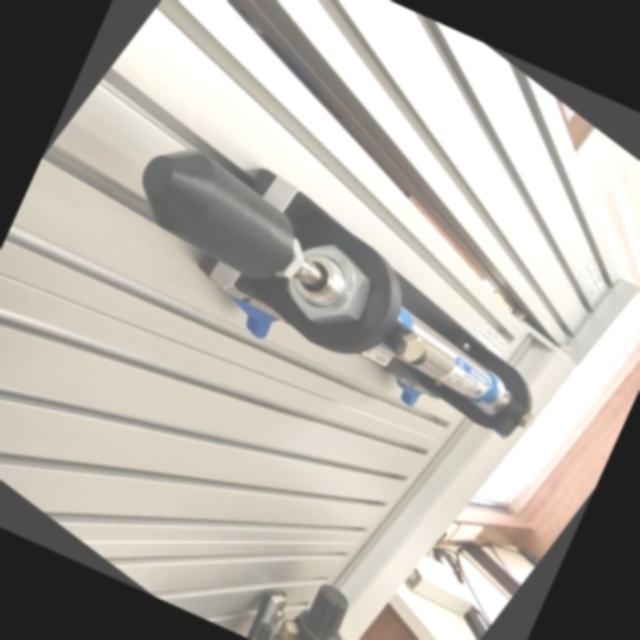double acting pneumatic cylinder: (53, 89, 605, 522)
